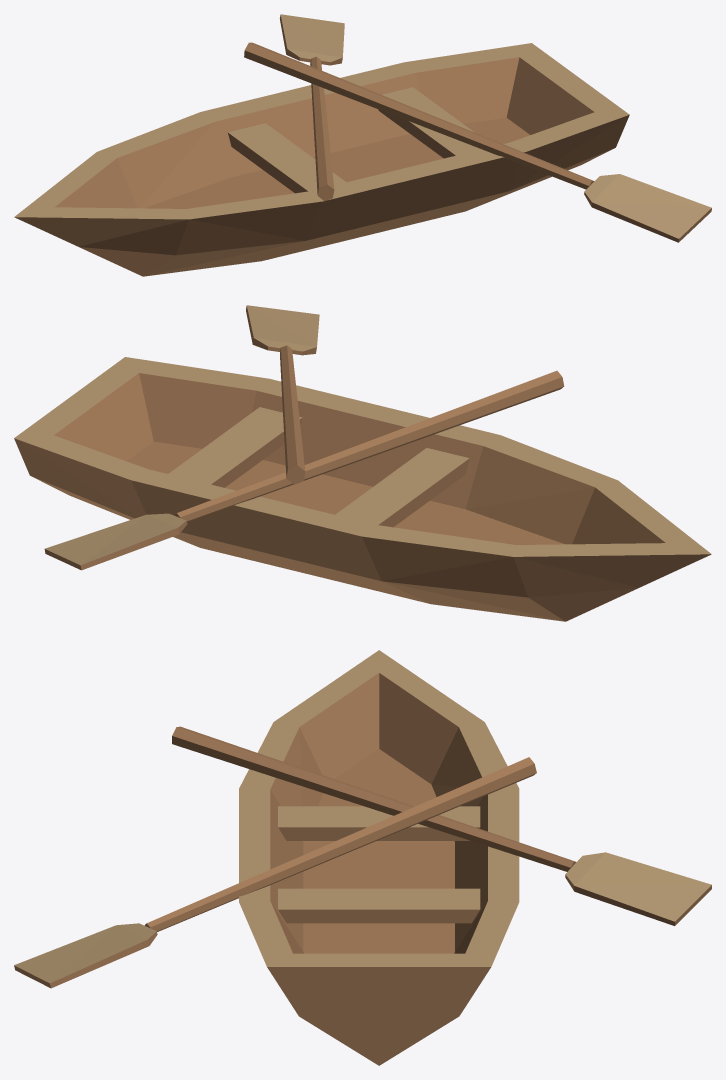
The model's file is boat_02.FBX.
3 renders of one model, top to bottom at view 1: azimuth 30°, elevation 25°; view 2: azimuth 150°, elevation 25°; view 3: azimuth 270°, elevation 25°, orthographic. The views are drawn at different scales.
Visible parts, largest first — view 1: boat_02; view 2: boat_02; view 3: boat_02.
Boxes of the visible parts, left/top/right/bottom form: boat_02: left=14, top=14, right=711, bottom=276; boat_02: left=14, top=305, right=711, bottom=621; boat_02: left=14, top=650, right=711, bottom=1065.
Bounding box in the file's own units: 1299 × 345 × 1209.
